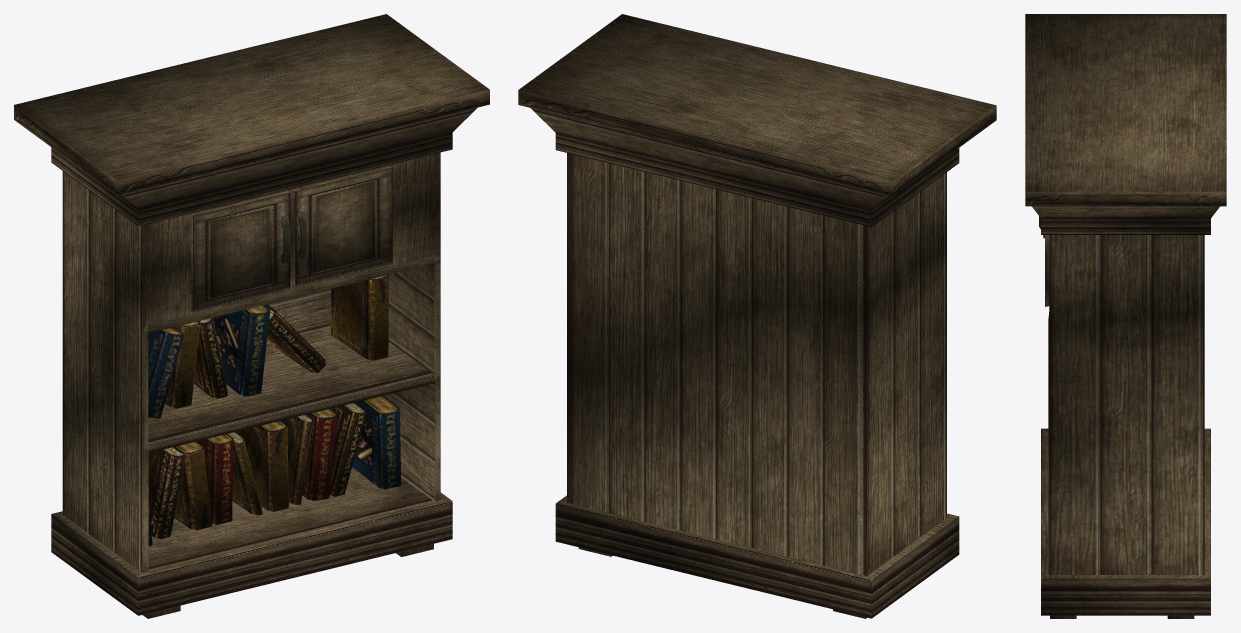
File: GS_VOB_BOOKCASE_BROWN_02_2_KOZA.glb
3 renders of one model, left to right at view 1: azimuth 30°, elevation 25°; view 2: azimuth 150°, elevation 25°; view 3: azimuth 270°, elevation 25°, orthographic. The views are drawn at different scales.
Parts seen in each view (by area): view 1: Mesh; view 2: Mesh; view 3: Mesh.
Part boxes in pixels (x1,y1,x2,y2): Mesh: (14, 14, 489, 618); Mesh: (518, 14, 996, 618); Mesh: (1025, 14, 1226, 618).
Bounding box in the file's own units: 1.41 × 1.66 × 0.6779.
5 materials, 5 textured.
